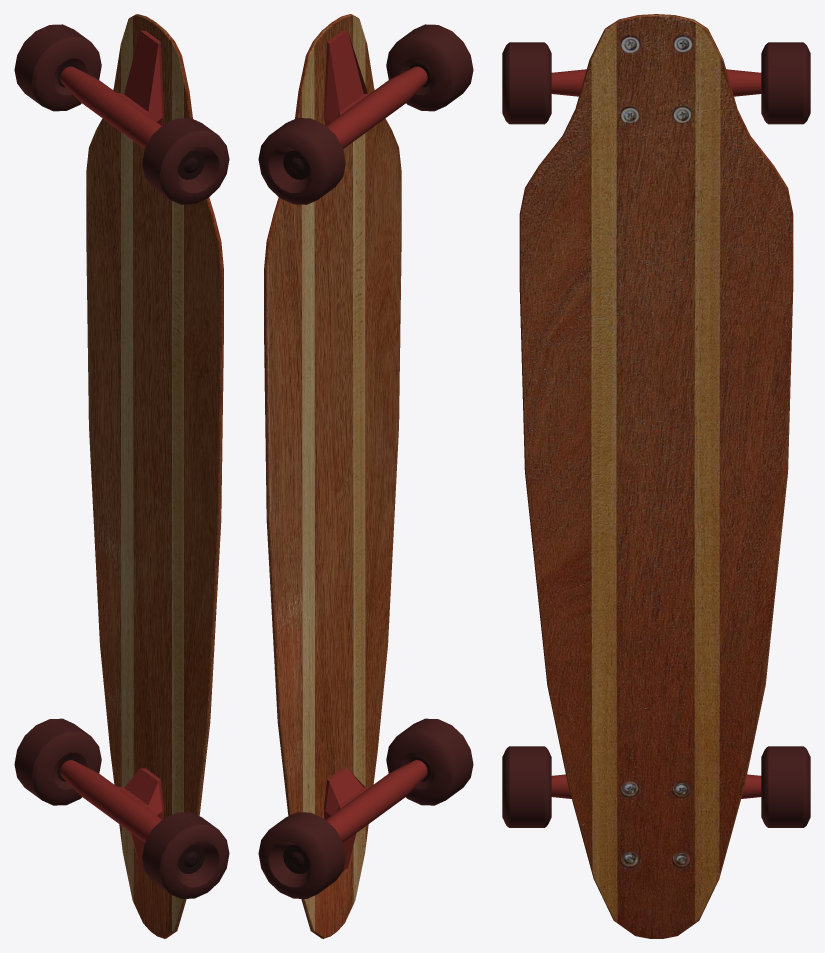
Rendered from Longboard.fbx.
3 views of the same model, side by side, from view 1: azimuth 30°, elevation 25°; view 2: azimuth 150°, elevation 25°; view 3: azimuth 270°, elevation 25° (orthographic).
Visible parts, largest first — view 1: Longboard; view 2: Longboard; view 3: Longboard.
Part boxes in pixels (left/top/right/bottom): Longboard: left=14, top=14, right=229, bottom=938; Longboard: left=258, top=14, right=473, bottom=938; Longboard: left=502, top=14, right=810, bottom=938.
Bounding box in the file's own units: 8.06 × 100 × 30.3.
